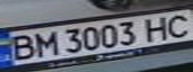0: (78, 24, 103, 52), (100, 21, 121, 48)
3: (115, 18, 142, 46), (60, 26, 84, 54)
B: (0, 32, 39, 62)
C: (160, 11, 193, 38)
H: (139, 14, 175, 43)
M: (27, 29, 60, 57)
